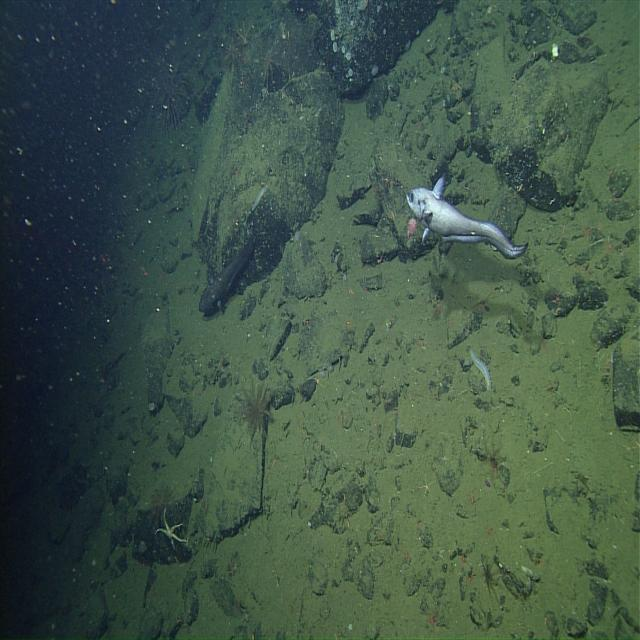Brittle Star: (414, 468, 438, 503), (423, 603, 443, 638), (236, 69, 251, 95)
Not Brittle Star: (404, 169, 532, 265), (198, 231, 261, 324), (234, 373, 276, 444), (152, 505, 192, 553), (469, 346, 493, 394), (256, 39, 282, 82), (218, 30, 242, 70), (233, 16, 255, 49), (251, 182, 268, 212), (370, 62, 379, 78), (347, 67, 354, 79)
